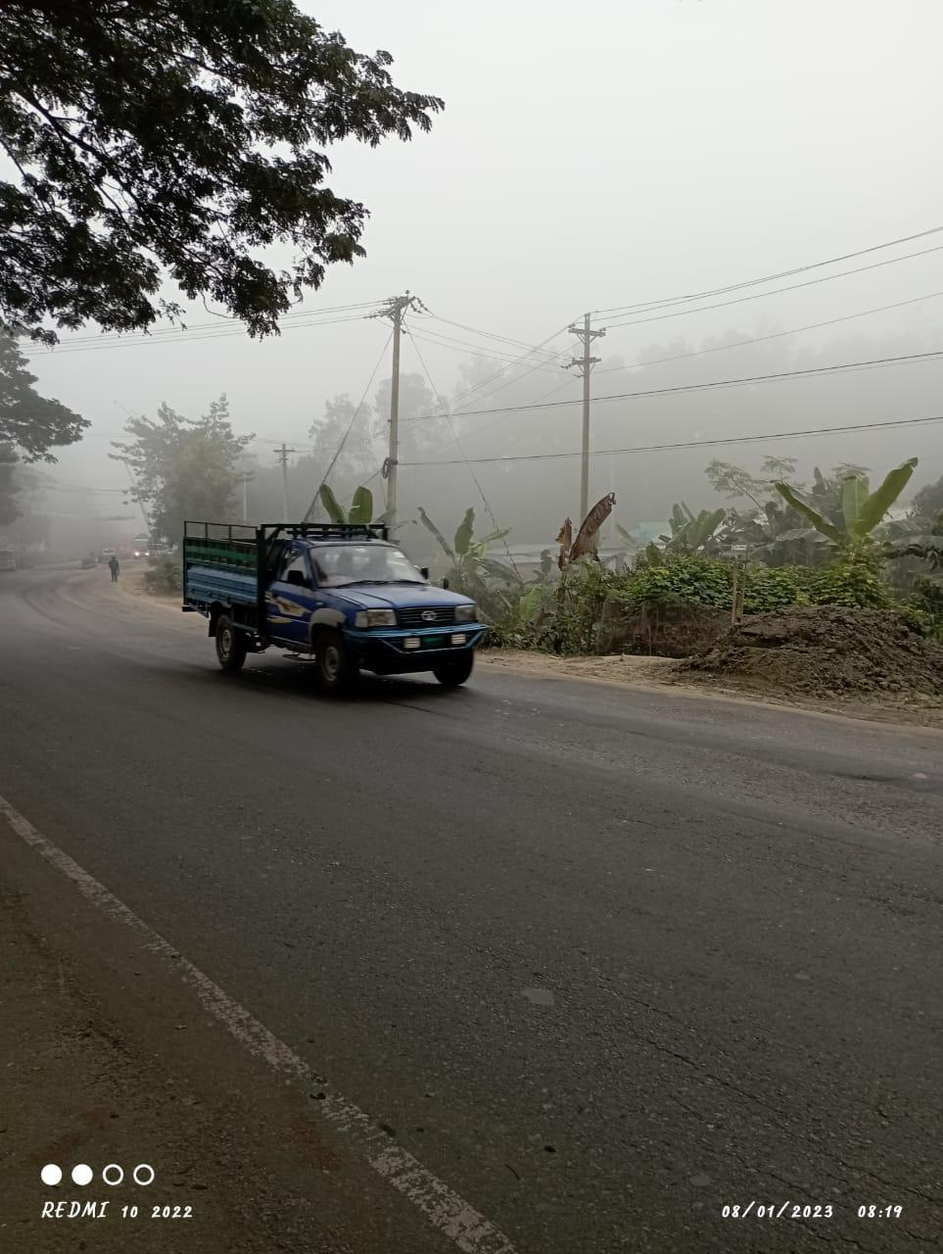Truck: (169, 513, 491, 690)
